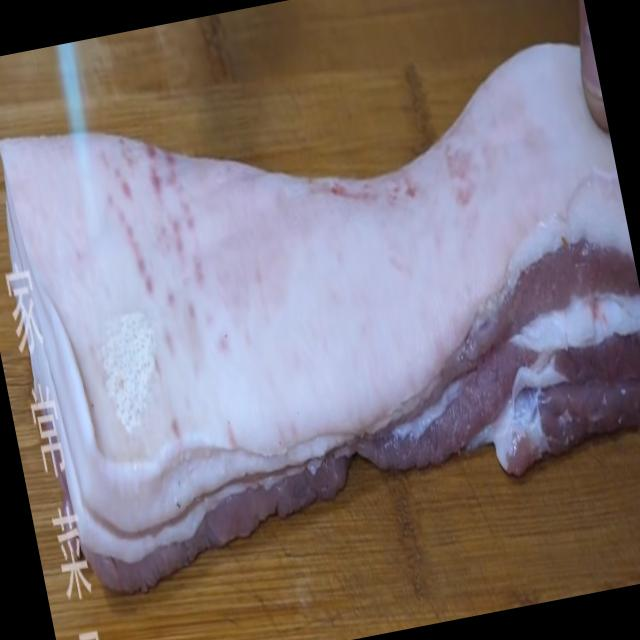pork: (0, 38, 640, 582)
